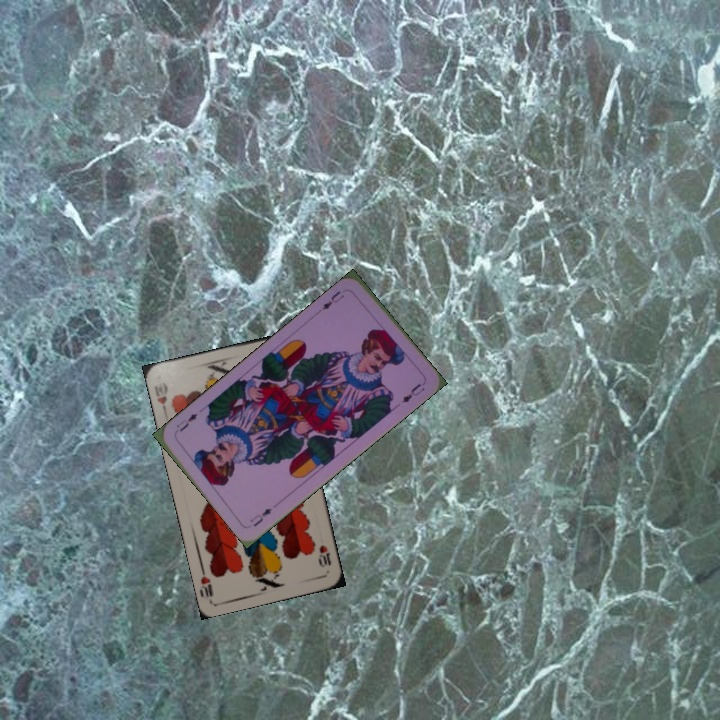EU: (318, 286, 347, 313), (246, 504, 274, 529)
H10: (150, 378, 171, 418), (314, 541, 334, 570)
